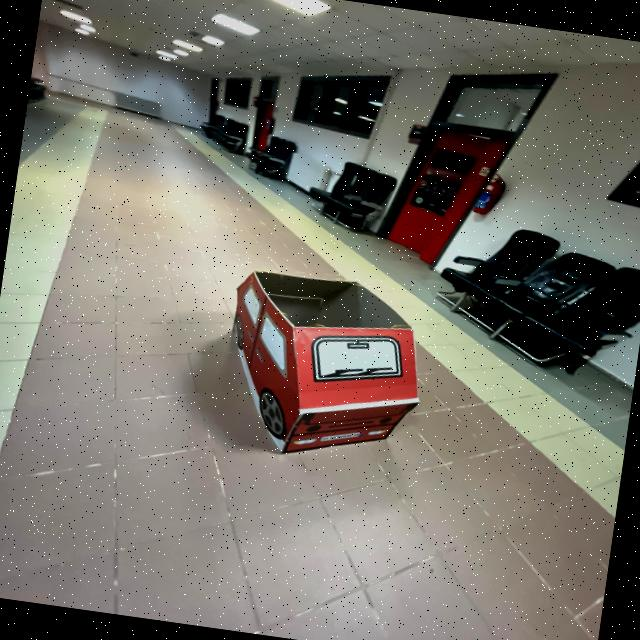red_car: (200, 258, 440, 492)
